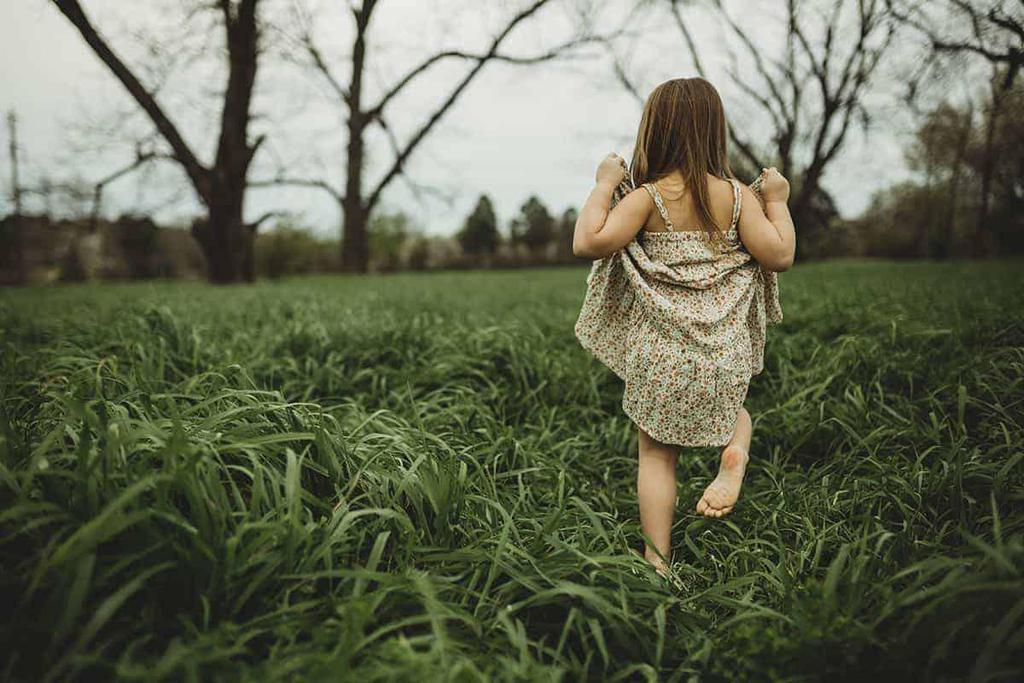child: (557, 72, 804, 576)
